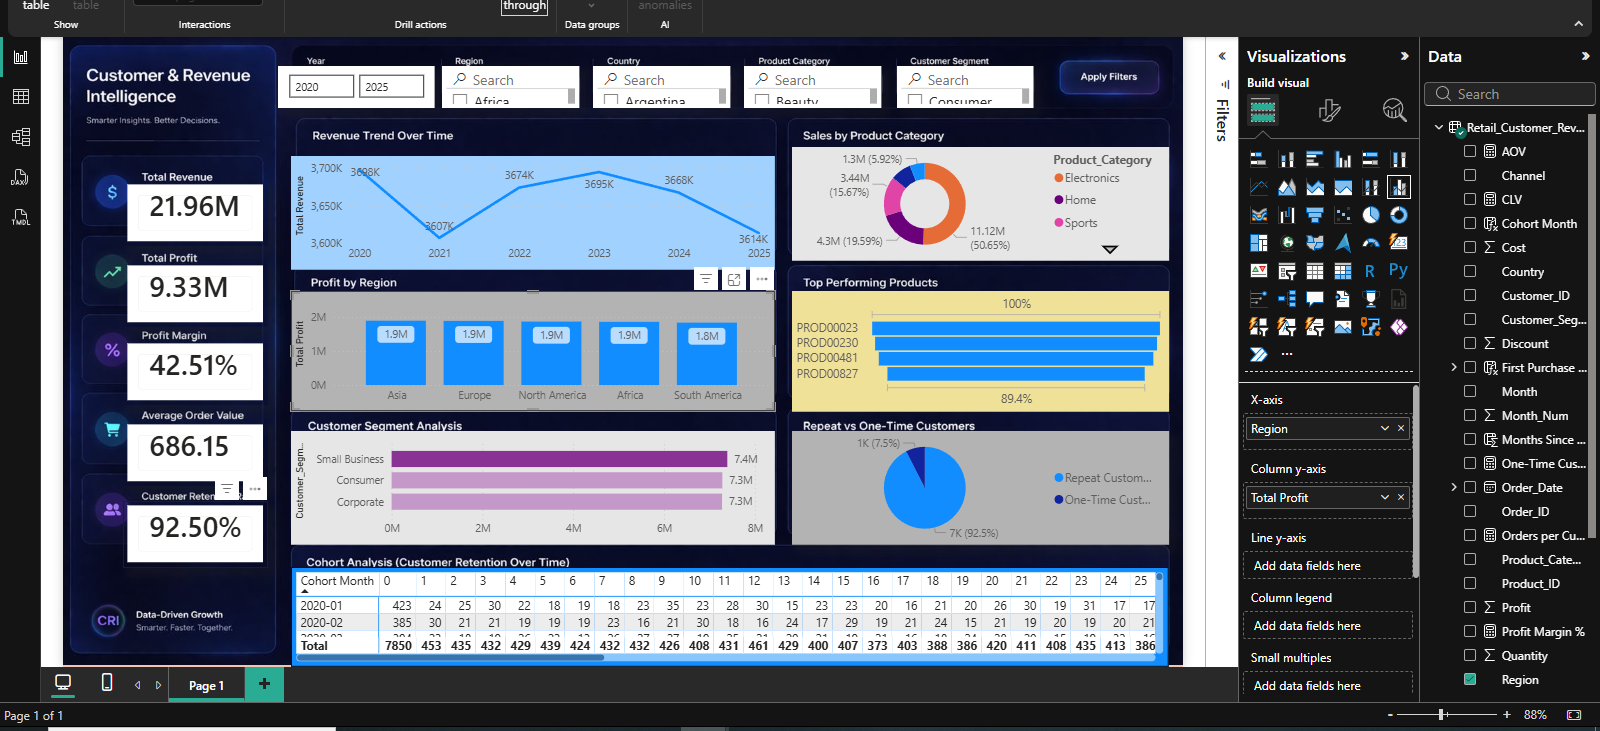

What the dashboard file says about the page in this screenshot:
{"tool":"powerbi","page":{"name":"Page 1","canvas":[1280,720],"ordinal":0},"visuals":[{"type":"cardVisual","fields":{"Data":["Retail_Customer_Revenue_32000.Total Revenue"]},"box":[68.1,163.2,165.8,75.8],"z":0},{"type":"cardVisual","fields":{"Data":["Retail_Customer_Revenue_32000.Profit Margin %"]},"box":[68.1,345.7,165.8,75.8],"z":1000},{"type":"cardVisual","fields":{"Data":["Retail_Customer_Revenue_32000.Total Profit"]},"box":[68.6,256,165.7,75.4],"z":2000},{"type":"cardVisual","fields":{"Data":["Retail_Customer_Revenue_32000.AOV"]},"box":[68.1,438.2,165.8,75.8],"z":3000},{"type":"cardVisual","fields":{"Data":["Retail_Customer_Revenue_32000.Retention Rate"]},"box":[68.1,530.8,165.8,75.8],"z":4000},{"type":"slicer","fields":{"Values":["Retail_Customer_Revenue_32000.Year"]},"box":[245.5,33.4,178.6,47.6],"z":5000},{"type":"slicer","fields":{"Values":["Retail_Customer_Revenue_32000.Region"]},"box":[433.1,33.4,156.8,47.6],"z":6000},{"type":"slicer","fields":{"Values":["Retail_Customer_Revenue_32000.Country"]},"box":[605.3,33.4,156.8,47.6],"z":7000},{"type":"slicer","fields":{"Values":["Retail_Customer_Revenue_32000.Product_Category"]},"box":[778.8,33.4,156.8,47.6],"z":8000},{"type":"slicer","fields":{"Values":["Retail_Customer_Revenue_32000.Customer_Segment"]},"box":[953.6,33.4,155.5,47.6],"z":9000},{"type":"lineChart","fields":{"Category":["Retail_Customer_Revenue_32000.Order_Date.Variation.Date Hierarchy.Year","Retail_Customer_Revenue_32000.Order_Date.Variation.Date Hierarchy.Quarter","Retail_Customer_Revenue_32000.Order_Date.Variation.Date Hierarchy.Month","Retail_Customer_Revenue_32000.Order_Date.Variation.Date Hierarchy.Day"],"Y":["Retail_Customer_Revenue_32000.Total Revenue"]},"box":[260.9,136.2,552.6,129.8],"z":10000},{"type":"donutChart","fields":{"Category":["Retail_Customer_Revenue_32000.Product_Category"],"Y":["Retail_Customer_Revenue_32000.Total Revenue"]},"box":[832.8,125.9,430.5,129.8],"z":11000},{"type":"lineClusteredColumnComboChart","fields":{"Category":["Retail_Customer_Revenue_32000.Region"],"Y":["Retail_Customer_Revenue_32000.Total Profit"]},"box":[260.9,290.4,552.6,137.5],"z":12000},{"type":"funnel","fields":{"Category":["Retail_Customer_Revenue_32000.Product_ID"],"Y":["Retail_Customer_Revenue_32000.Total Revenue"]},"box":[832.8,290.4,430.5,137.5],"z":13000},{"type":"barChart","fields":{"Category":["Retail_Customer_Revenue_32000.Customer_Segment"],"Y":["Retail_Customer_Revenue_32000.Total Revenue"]},"box":[260.9,449.8,552.6,129.8],"z":14000},{"type":"pieChart","fields":{"Y":["Retail_Customer_Revenue_32000.Repeat Customers","Retail_Customer_Revenue_32000.One-Time Customers"]},"box":[832.8,449.8,430.5,129.8],"z":15000},{"type":"pivotTable","fields":{"Rows":["Retail_Customer_Revenue_32000.Cohort Month"],"Columns":["Retail_Customer_Revenue_32000.Months Since First Purchase"],"Values":["Count(Retail_Customer_Revenue_32000.Customer_ID)"]},"box":[260.6,605.7,1003.4,114.3],"z":16000}]}

Visuals, with their boxes on the page's 1280x720 design canvas (x1, y1, x2, y2). These are canvas units, not pixel positions in the 1600x731 screenshot, which may show the page scaled, cropped or inside an application window:
cardVisual - Retail_Customer_Revenue_32000.Total Revenue: [68,163,234,239]
cardVisual - Retail_Customer_Revenue_32000.Profit Margin %: [68,346,234,422]
cardVisual - Retail_Customer_Revenue_32000.Total Profit: [69,256,234,331]
cardVisual - Retail_Customer_Revenue_32000.AOV: [68,438,234,514]
cardVisual - Retail_Customer_Revenue_32000.Retention Rate: [68,531,234,607]
slicer - Retail_Customer_Revenue_32000.Year: [246,33,424,81]
slicer - Retail_Customer_Revenue_32000.Region: [433,33,590,81]
slicer - Retail_Customer_Revenue_32000.Country: [605,33,762,81]
slicer - Retail_Customer_Revenue_32000.Product_Category: [779,33,936,81]
slicer - Retail_Customer_Revenue_32000.Customer_Segment: [954,33,1109,81]
lineChart - Retail_Customer_Revenue_32000.Order_Date.Variation.Date Hierarchy.Year x Retail_Customer_Revenue_32000.Order_Date.Variation.Date Hierarchy.Quarter: [261,136,814,266]
donutChart - Retail_Customer_Revenue_32000.Product_Category x Retail_Customer_Revenue_32000.Total Revenue: [833,126,1263,256]
lineClusteredColumnComboChart - Retail_Customer_Revenue_32000.Region x Retail_Customer_Revenue_32000.Total Profit: [261,290,814,428]
funnel - Retail_Customer_Revenue_32000.Product_ID x Retail_Customer_Revenue_32000.Total Revenue: [833,290,1263,428]
barChart - Retail_Customer_Revenue_32000.Customer_Segment x Retail_Customer_Revenue_32000.Total Revenue: [261,450,814,580]
pieChart - Retail_Customer_Revenue_32000.Repeat Customers x Retail_Customer_Revenue_32000.One-Time Customers: [833,450,1263,580]
pivotTable - Retail_Customer_Revenue_32000.Cohort Month x Retail_Customer_Revenue_32000.Months Since First Purchase: [261,606,1264,720]
